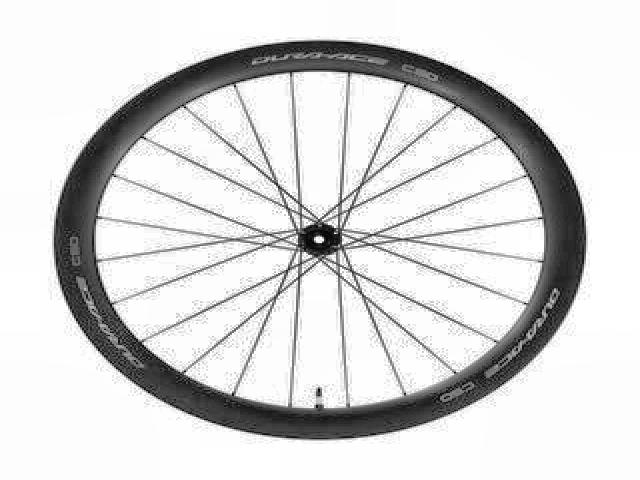wheel: (52, 39, 594, 452)
